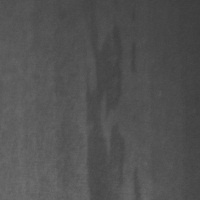inclusion: (84, 25, 129, 199)
